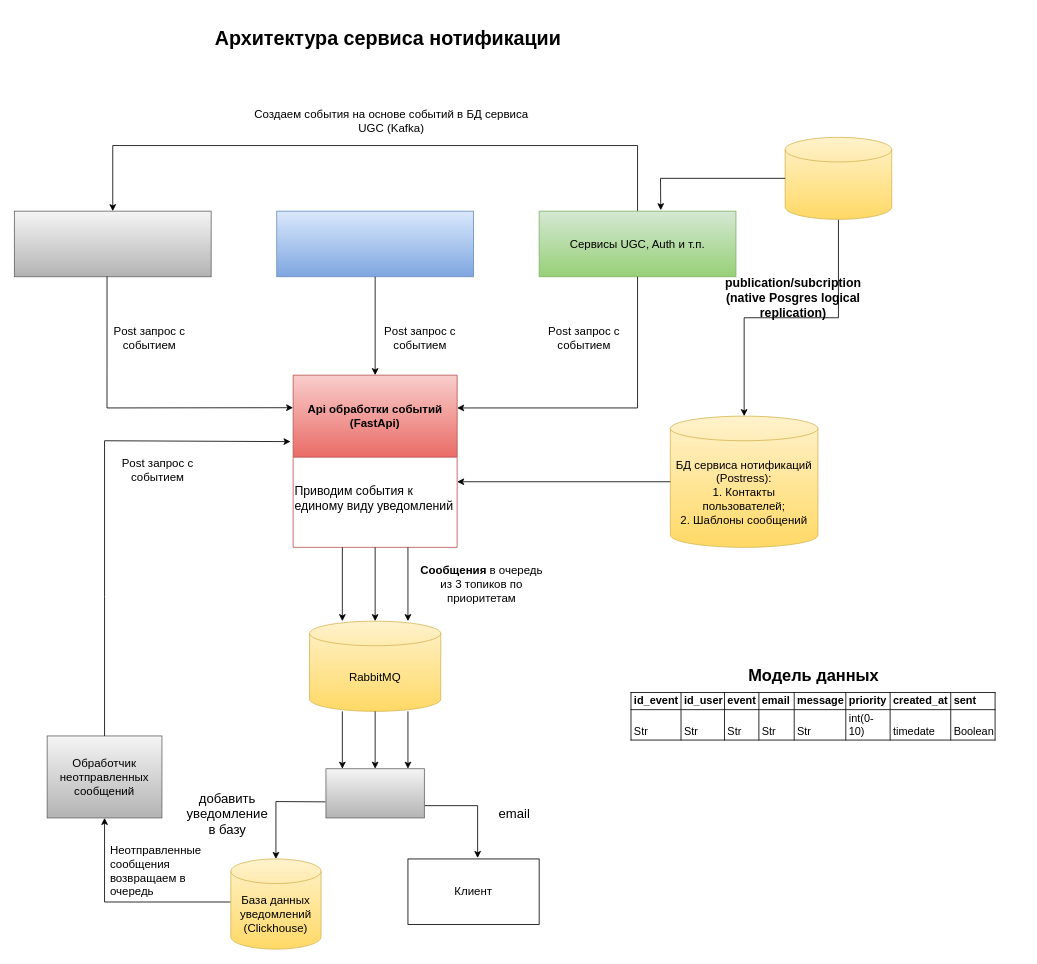
Some shapes in this 1037 by 964 pixel diagram are drawn without their labels. The centre of each missing label's shape, as x and y in pixels:
"Админ-панель (FastApi)" belongs at (375,243).
"БД сервиса Auth (пара: user_id - email" belongs at (838,178).
"Воркер" belongs at (374,793).
"Генератор автоматических событий (Crontab)" belongs at (112,243).
